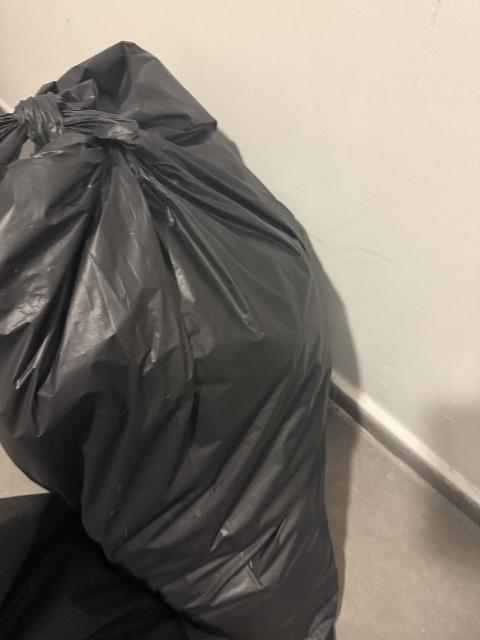Plastik: (0, 49, 335, 640)
